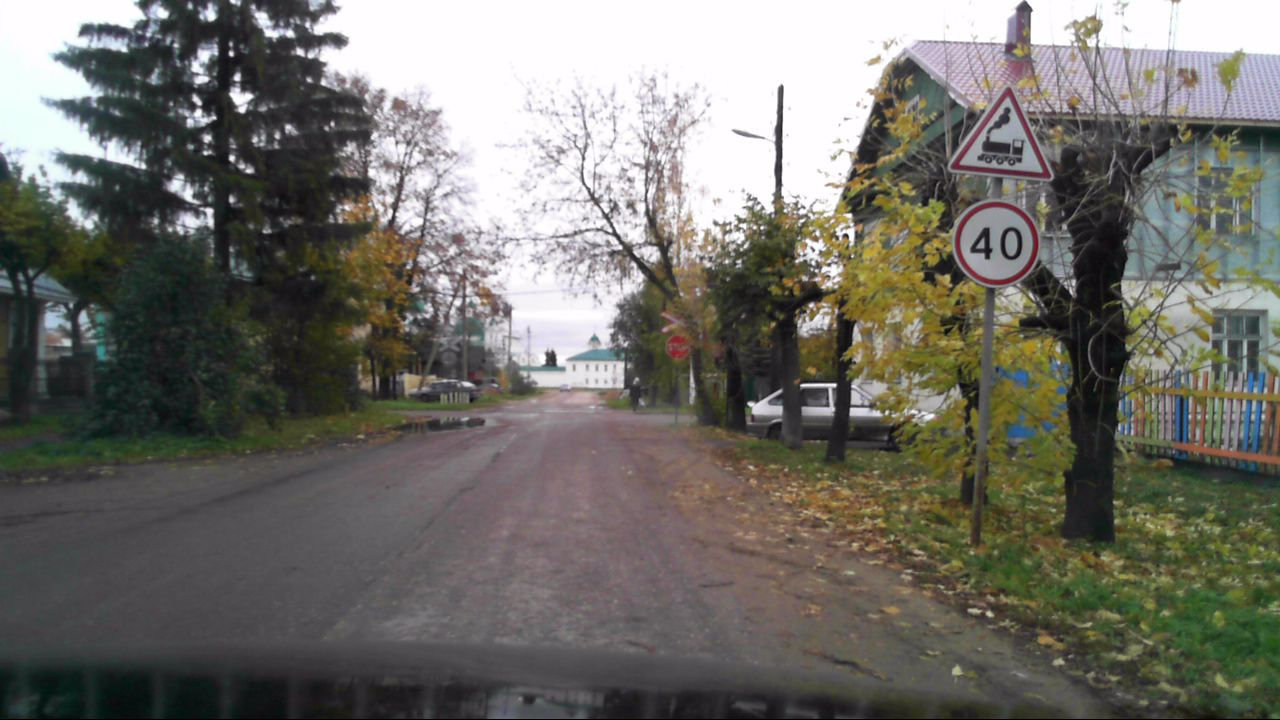speed_warning_40: (951, 197, 1040, 288)
